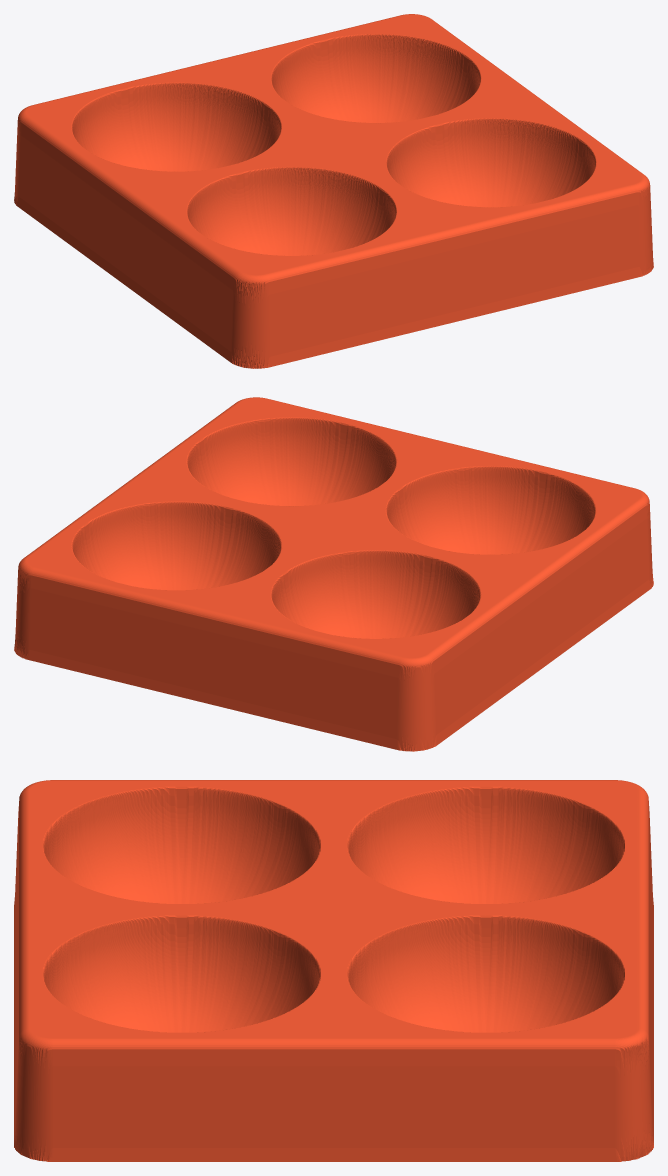
File: mold.glb
3 renders of one model, top to bottom at view 1: azimuth 30°, elevation 25°; view 2: azimuth 150°, elevation 25°; view 3: azimuth 270°, elevation 25°, orthographic. The views are drawn at different scales.
Visible parts, largest first — view 1: geometry_0; view 2: geometry_0; view 3: geometry_0.
Part boxes in pixels (x1=…): geometry_0: x1=14, y1=14, x2=653, y2=368; geometry_0: x1=14, y1=397, x2=653, y2=751; geometry_0: x1=14, y1=780, x2=653, y2=1161.
Bounding box in the file's own units: 0.1482 × 0.0299 × 0.1482.
